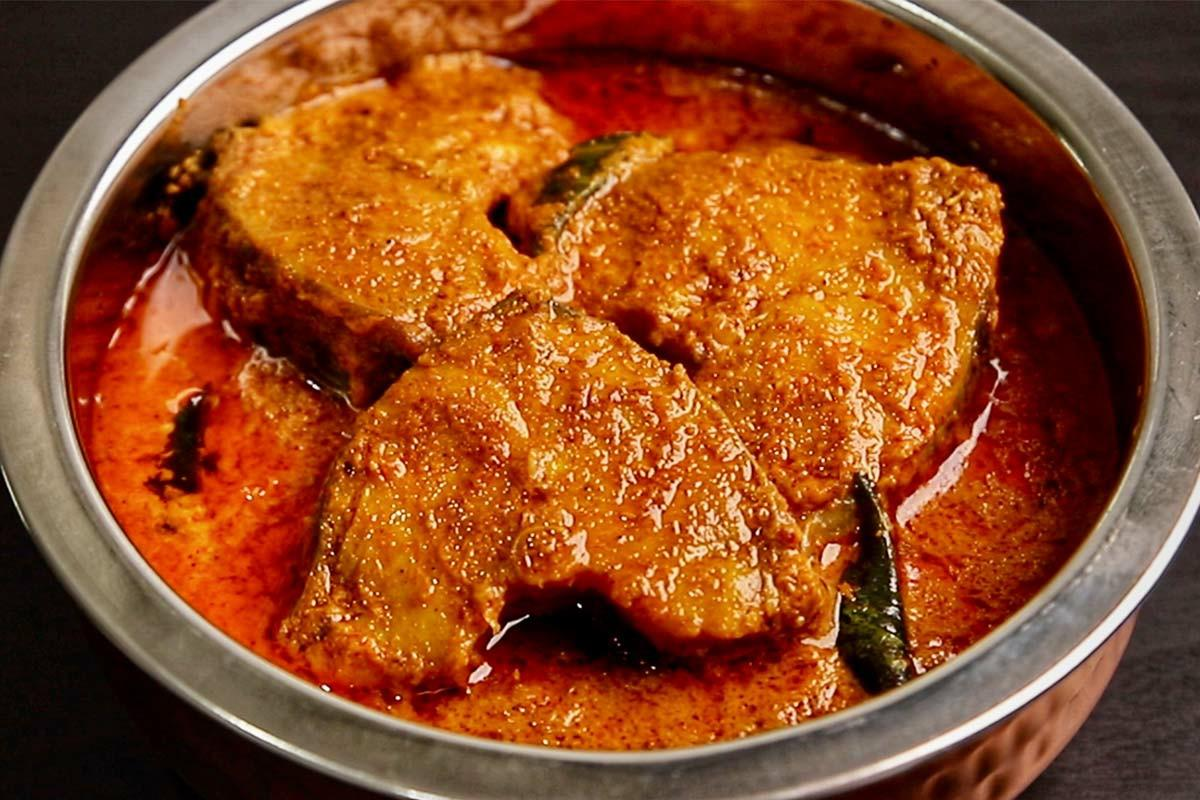FishCurry: (92, 46, 1114, 745)
